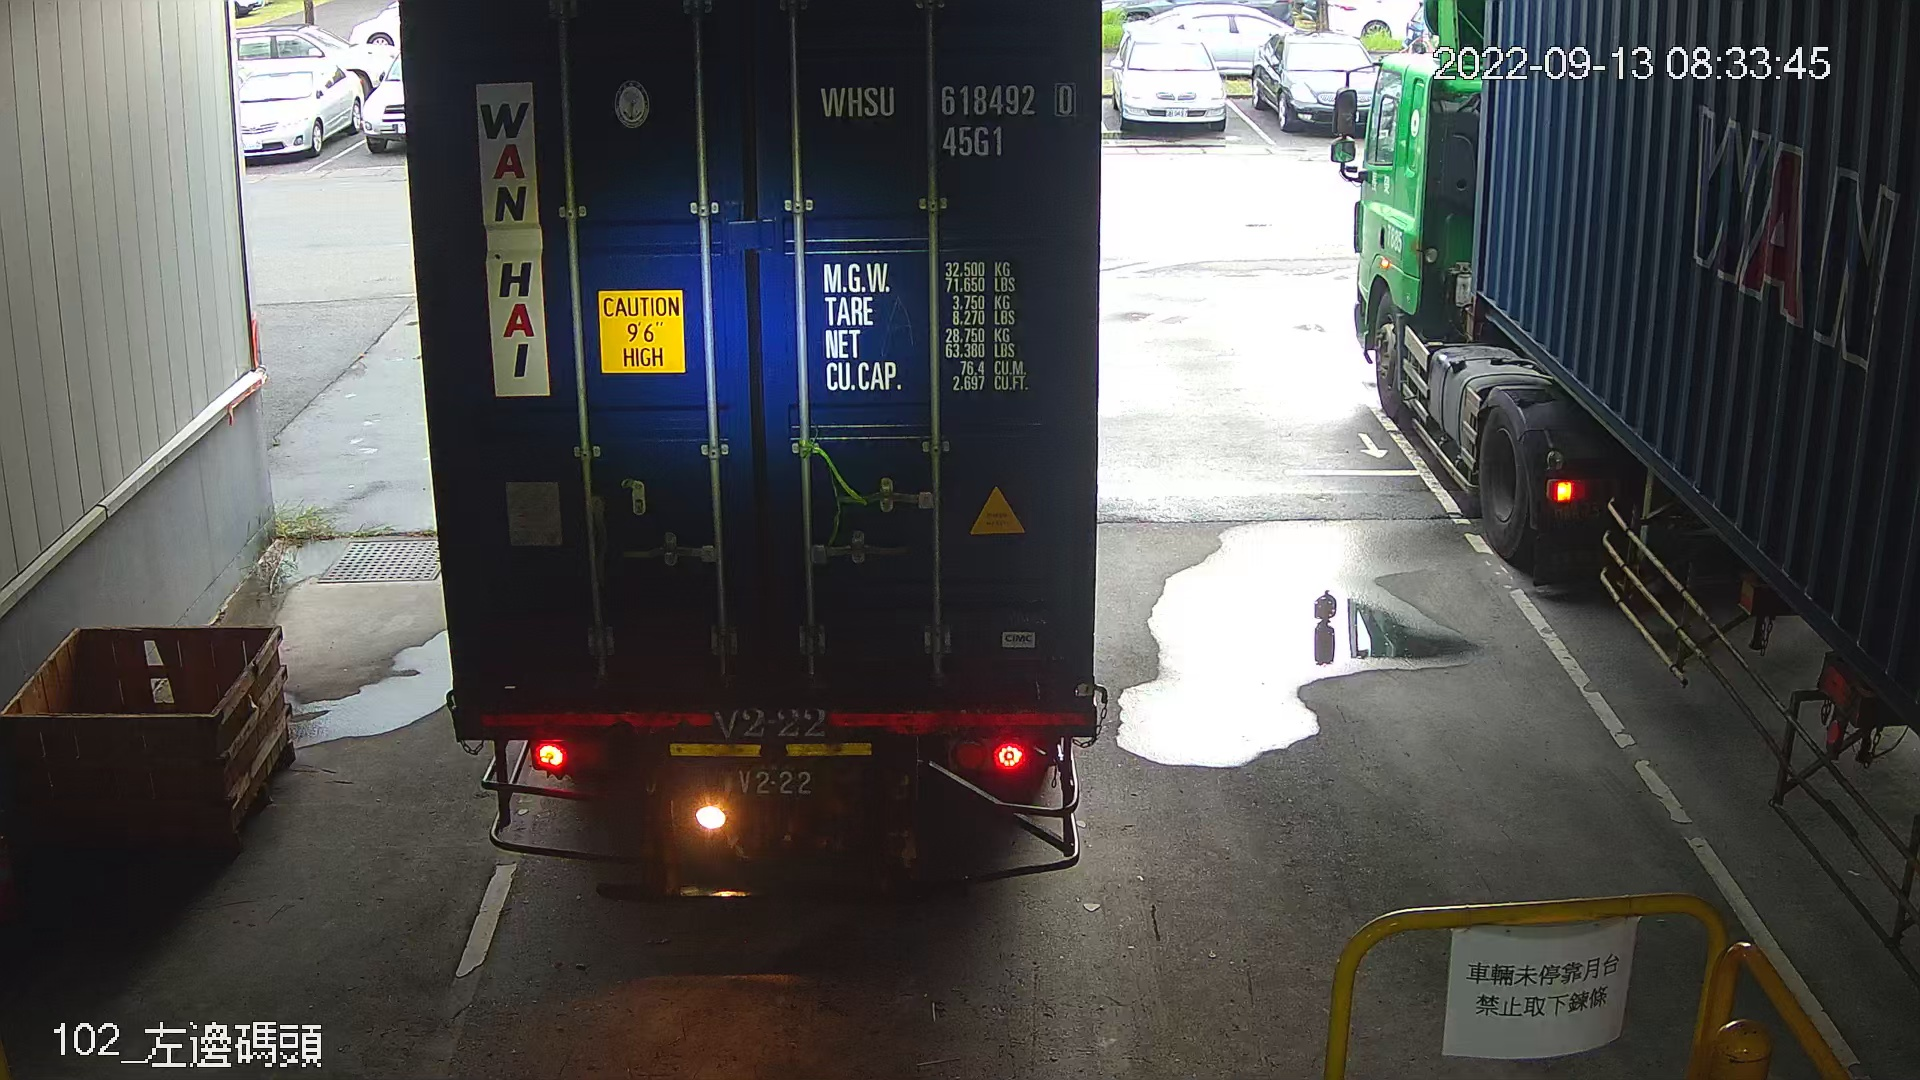container: (808, 74, 1084, 166)
